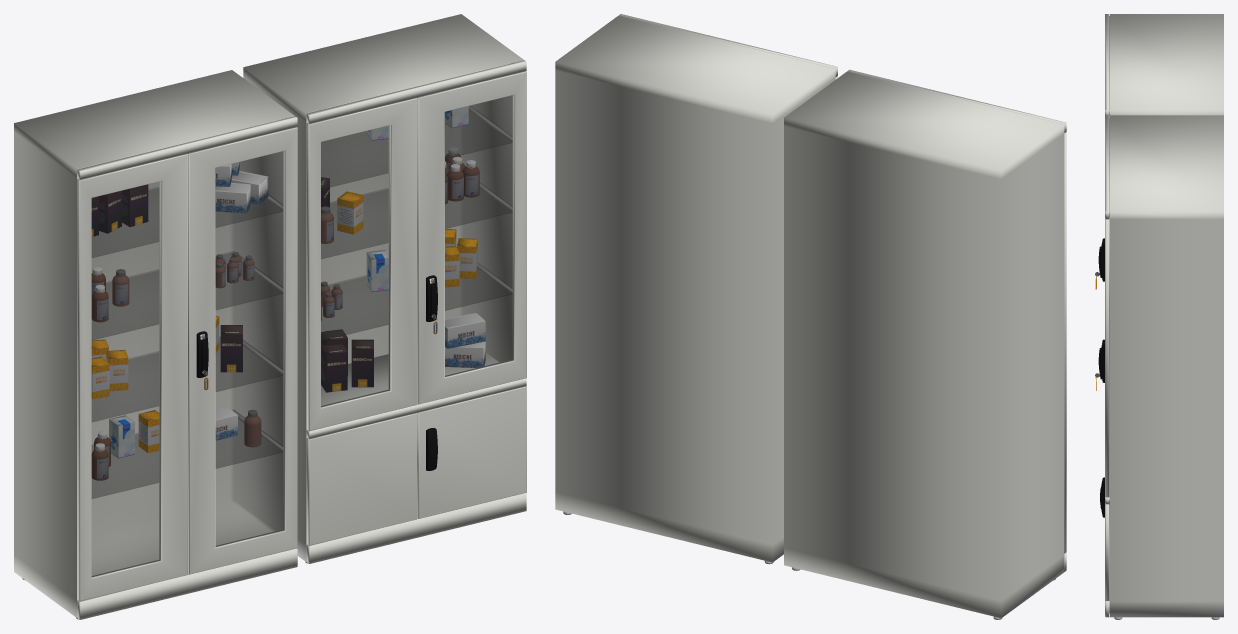
3 renders of one model, left to right at view 1: azimuth 30°, elevation 25°; view 2: azimuth 150°, elevation 25°; view 3: azimuth 270°, elevation 25°, orthographic. The views are drawn at different scales.
Visible parts, largest first — view 1: Object_2, Object_3, Object_10, Object_12, Object_11, Object_13, Object_21, Object_15, Object_17, Object_6, Object_16; view 2: Object_2; view 3: Object_2, Object_6, Object_5.
Part boxes in pixels (bbox=[...]): Object_2: bbox=[14, 14, 526, 619]; Object_3: bbox=[91, 95, 513, 576]; Object_10: bbox=[91, 177, 373, 392]; Object_12: bbox=[91, 191, 477, 453]; Object_11: bbox=[215, 162, 485, 440]; Object_13: bbox=[109, 106, 468, 458]; Object_21: bbox=[91, 162, 478, 478]; Object_15: bbox=[91, 166, 479, 480]; Object_17: bbox=[112, 256, 261, 447]; Object_6: bbox=[426, 275, 437, 470]; Object_16: bbox=[215, 212, 333, 320]; Object_2: bbox=[555, 14, 1066, 618]; Object_2: bbox=[1105, 14, 1223, 617]; Object_6: bbox=[1098, 339, 1104, 517]; Object_5: bbox=[1098, 238, 1104, 281].
Size of the model in its own units: 72.7 by 70.5 by 20.04.
Materials: 16 (9 with a texture image).
